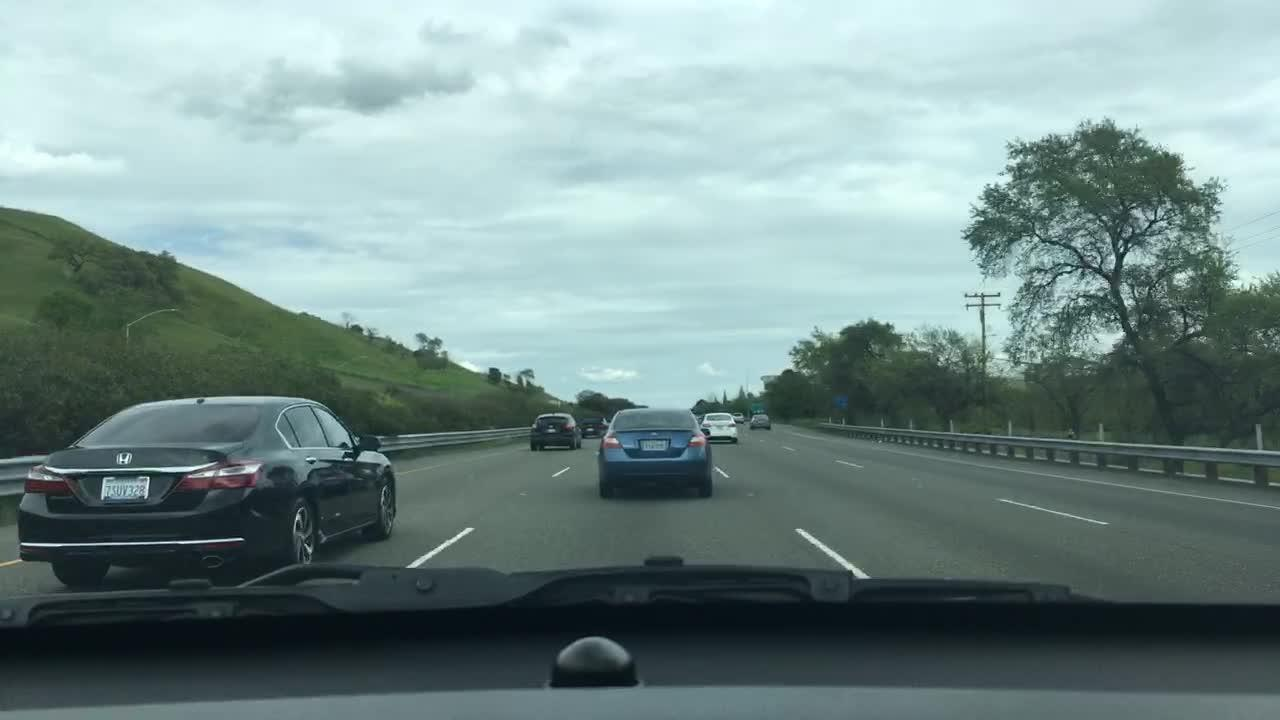Honda: (103, 445, 143, 473)
